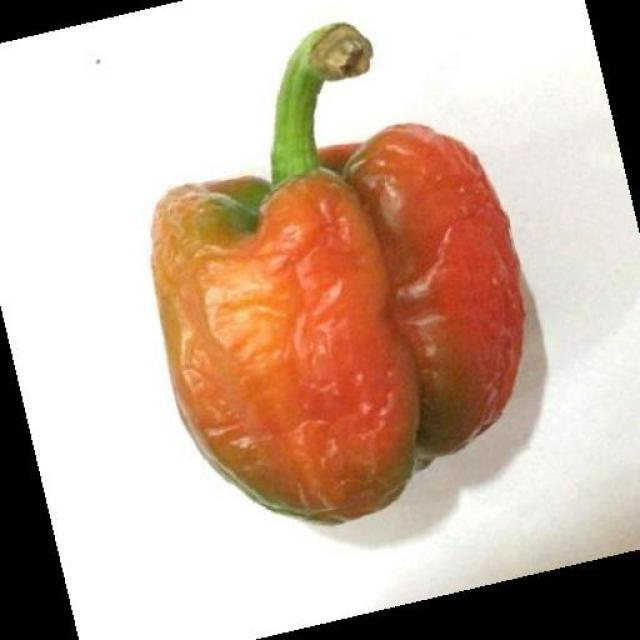Stale_Capsicum: (149, 61, 523, 540)
